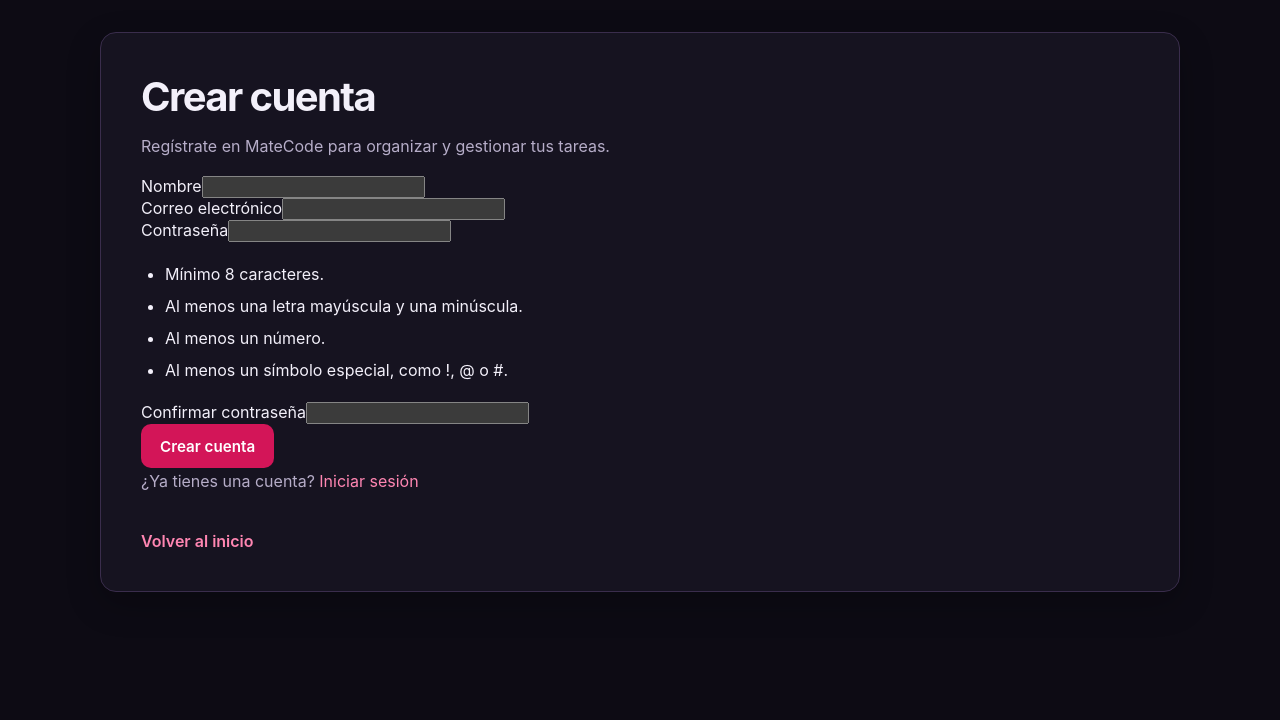
Scenario: RegisterPage › muestra el error de validación de contraseña y no registra la cuenta
Type "Ana Pérez" into the field labelled "Nombre".
click(313, 187); type("Ana Pérez")  # box [202,176,424,198]
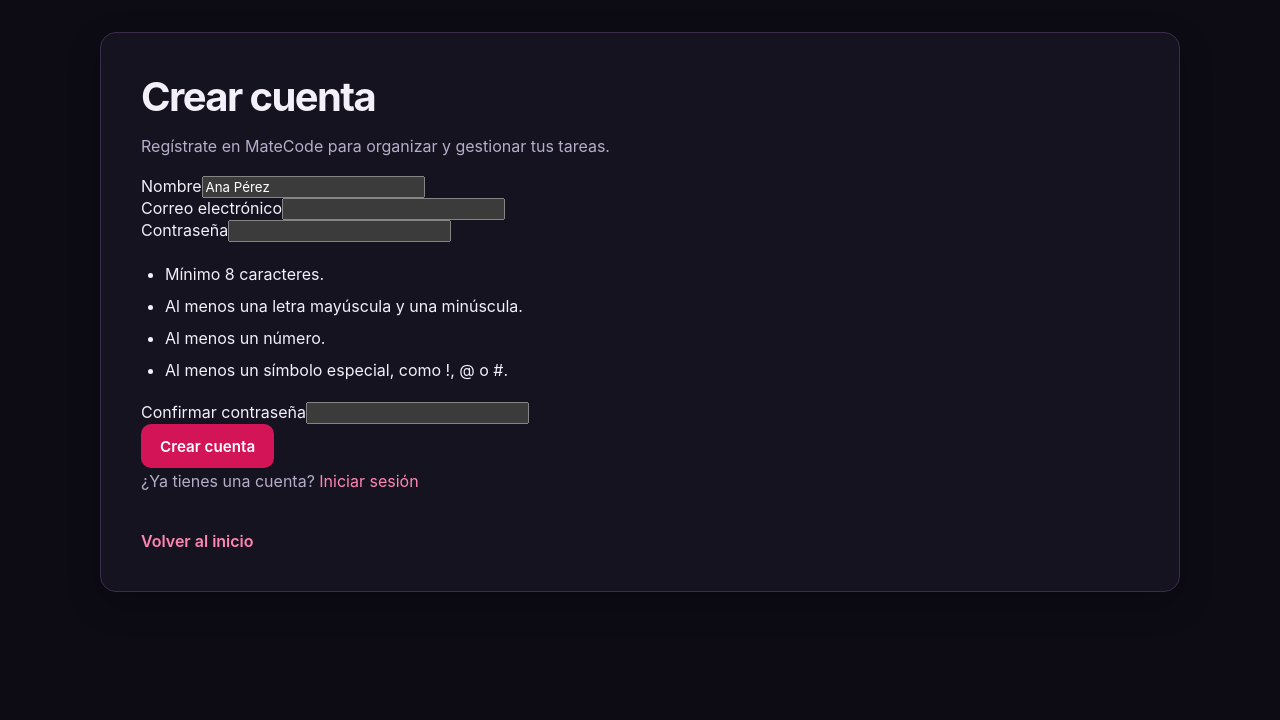
Type "ana@example.com" into the field labelled "Correo electrónico".
click(394, 209); type("ana@example.com")  # box [282,198,505,220]
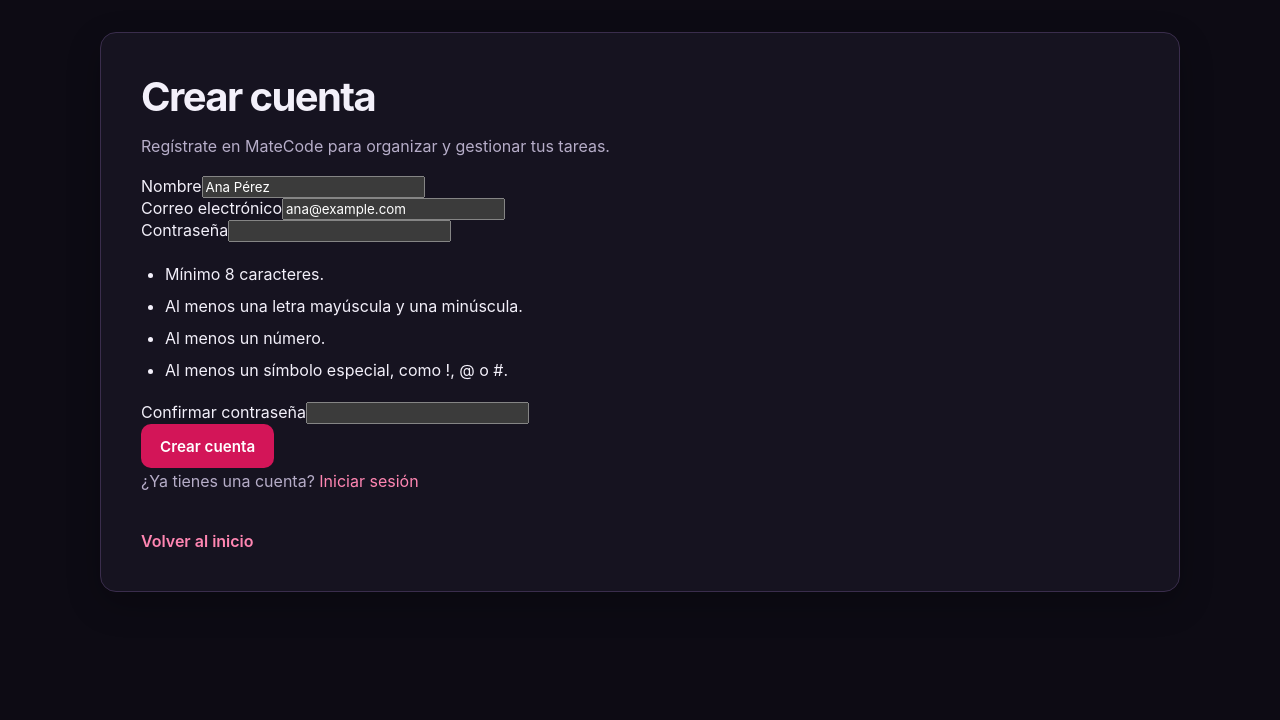
Type "Password123!" into the password field labelled "Contraseña".
click(340, 231); type("Password123!")  # box [228,220,451,242]
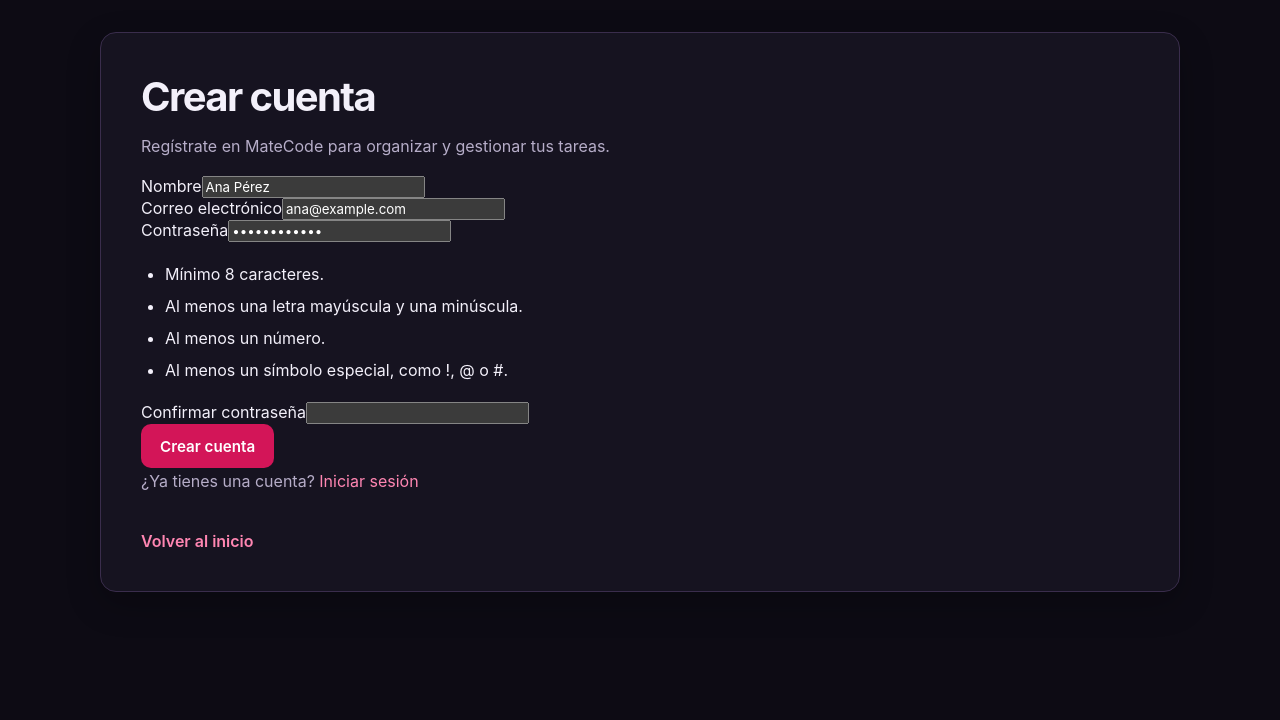
Type "Password123!" into the password field labelled "Confirmar contraseña".
click(418, 413); type("Password123!")  # box [306,402,529,424]
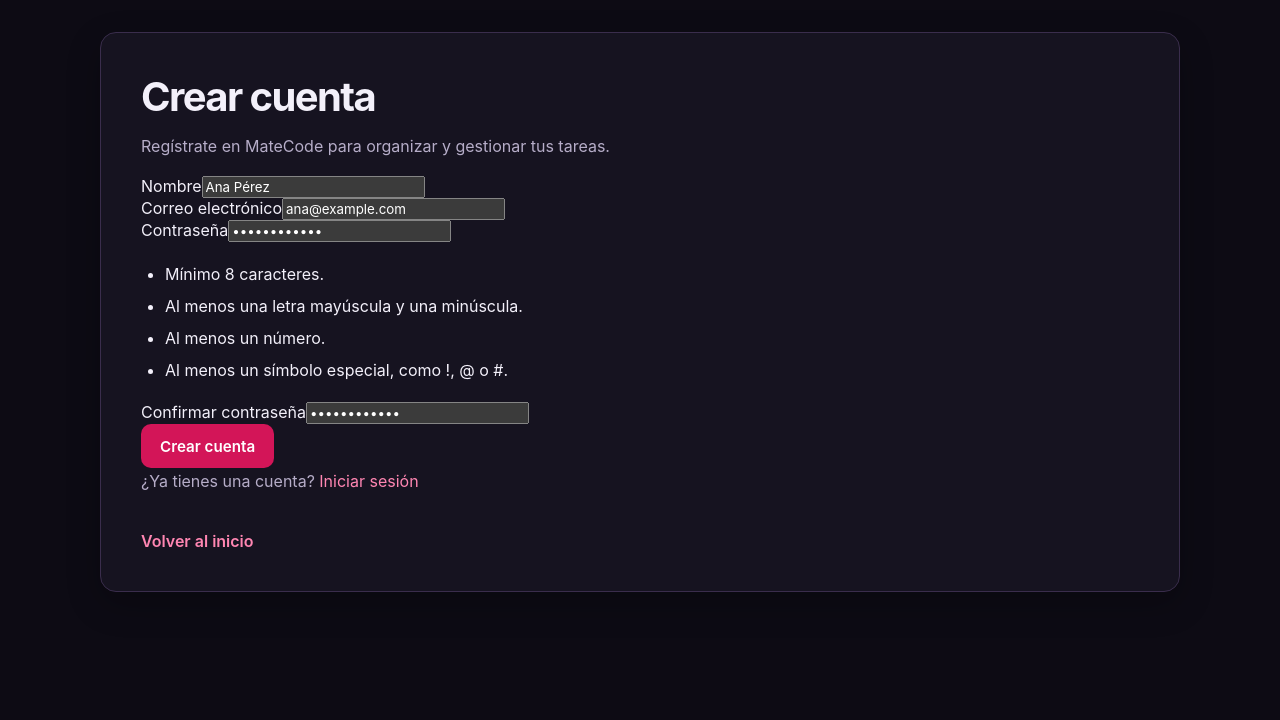
Click the button "Crear cuenta".
click(208, 446)  # box [141,424,274,468]
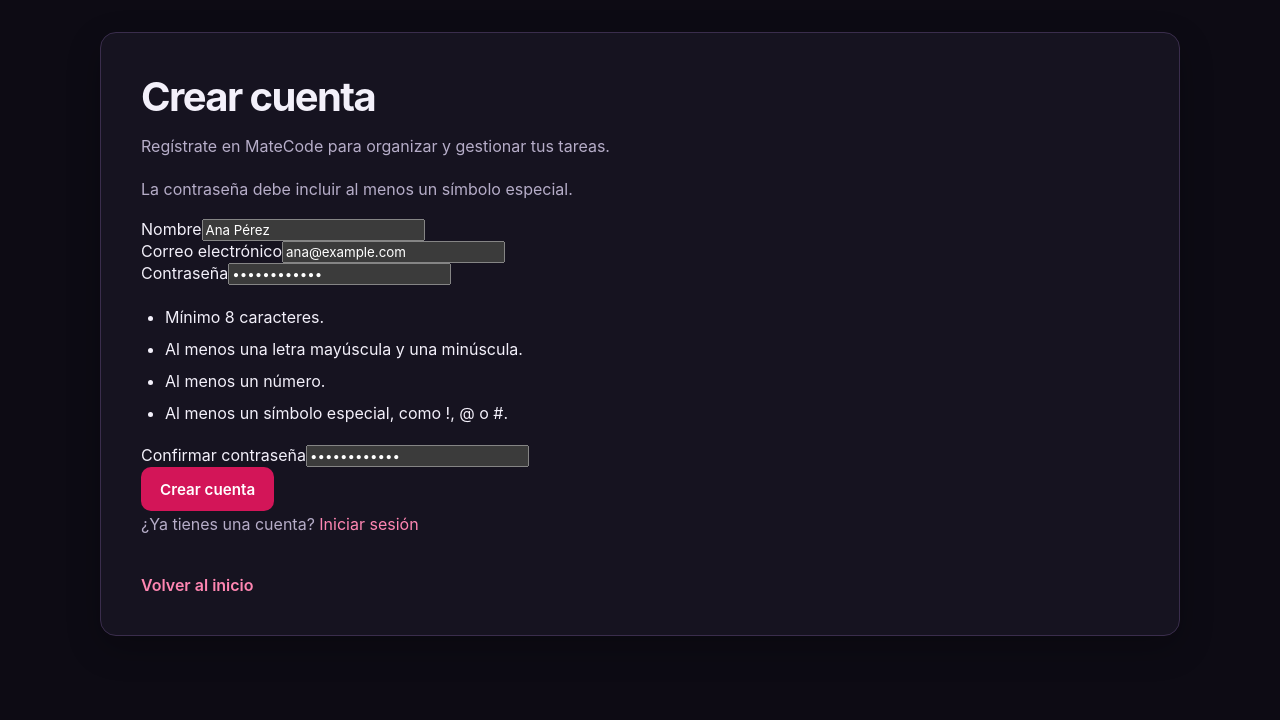
Expected: the message reads "La contraseña debe incluir al menos un símbolo especial.", [141,179,573,199]
